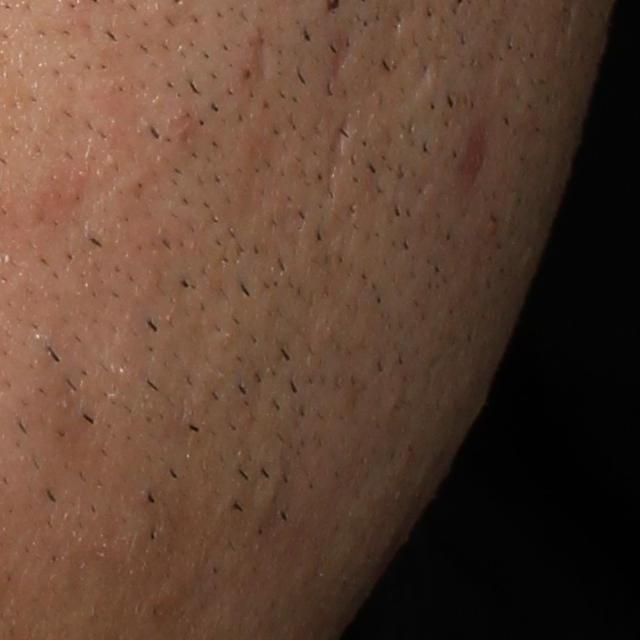atrophic_scar: (247, 31, 276, 89), (407, 55, 436, 92), (330, 41, 353, 86), (329, 118, 352, 157)
